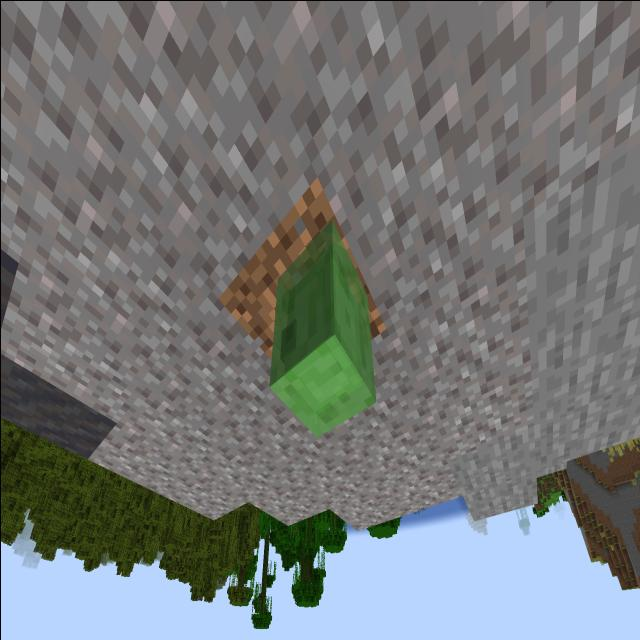Slime: (259, 193, 386, 450)
